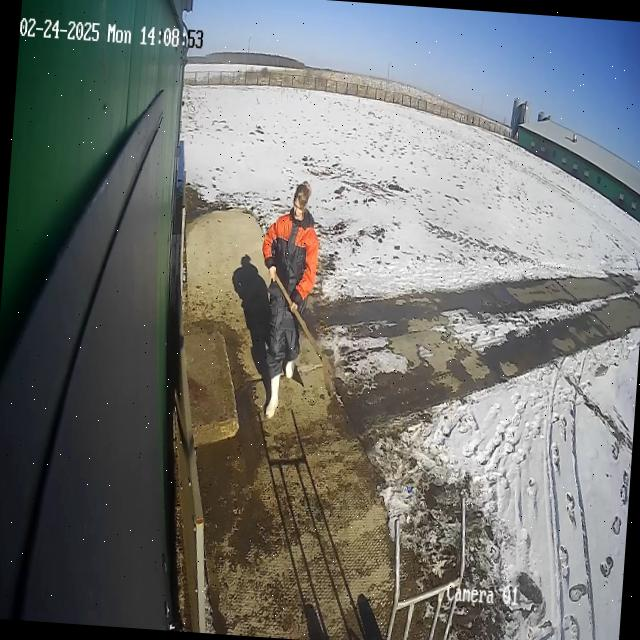Red uniform: (248, 176, 324, 423)
